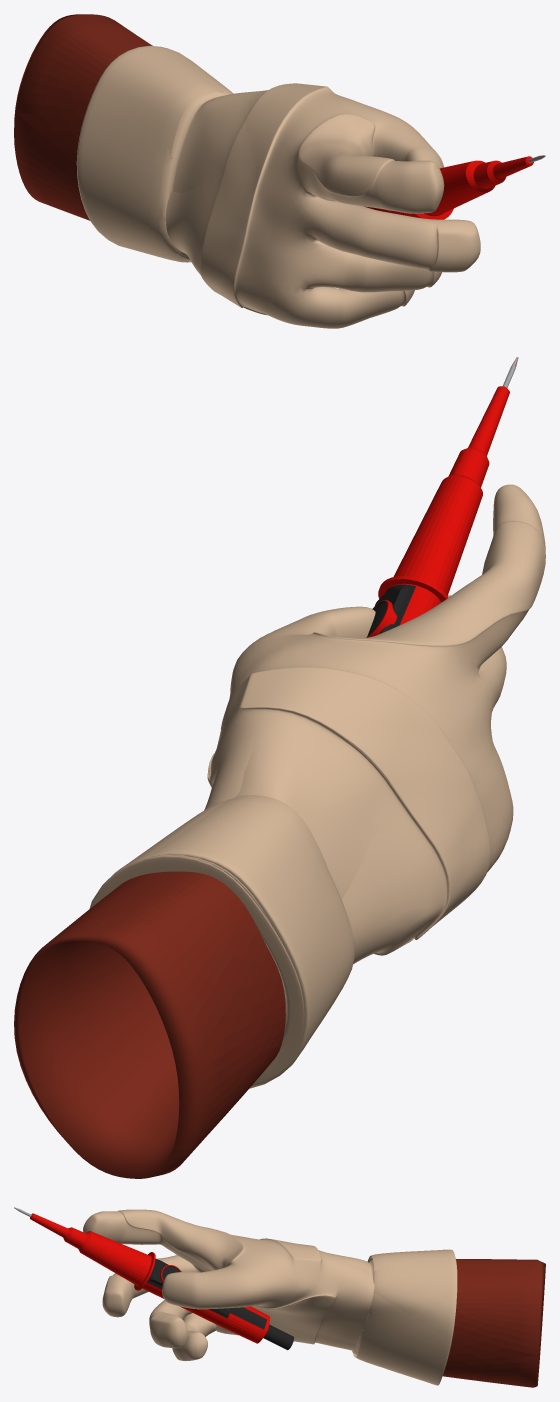
File: glove-with-duspol-2.fbx
3 renders of one model, top to bottom at view 1: azimuth 30°, elevation 25°; view 2: azimuth 150°, elevation 25°; view 3: azimuth 270°, elevation 25°, orthographic. The views are drawn at different scales.
Visible parts, largest first — view 1: WorkGloves_RightWorkGloves, gloves.001_Cube.001, duspol-L; view 2: WorkGloves_RightWorkGloves, gloves.001_Cube.001, duspol-L; view 3: WorkGloves_RightWorkGloves, gloves.001_Cube.001, duspol-L.
Boxes of the visible parts, x1,y1,x2,y2 form: WorkGloves_RightWorkGloves: (76,45,480,328); gloves.001_Cube.001: (14,14,152,220); duspol-L: (365,155,545,219); WorkGloves_RightWorkGloves: (89,484,545,1088); gloves.001_Cube.001: (14,871,285,1178); duspol-L: (375,357,518,633); WorkGloves_RightWorkGloves: (83,1209,457,1385); gloves.001_Cube.001: (443,1259,545,1387); duspol-L: (14,1207,293,1350).
Bounding box in the file's own units: 406 × 608 × 1424.
